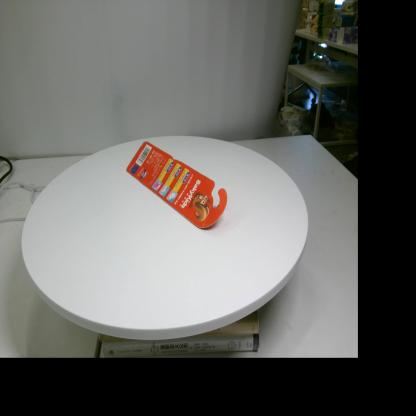Personal Hygiene: (126, 141, 228, 228)
